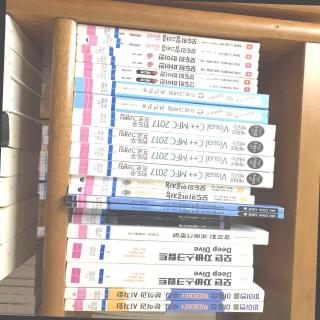book-spine: (73, 75, 269, 111), (71, 108, 275, 141), (69, 157, 273, 189), (72, 92, 268, 125), (69, 142, 274, 172), (70, 126, 274, 156), (65, 262, 253, 293), (76, 23, 259, 53), (75, 34, 258, 63), (66, 239, 252, 267), (75, 44, 258, 71), (75, 52, 258, 79), (74, 69, 257, 95), (74, 62, 257, 87), (67, 224, 268, 245), (66, 195, 283, 214), (67, 184, 254, 205), (65, 202, 283, 219), (69, 175, 250, 195), (64, 288, 264, 303), (68, 214, 230, 231), (64, 300, 262, 312), (68, 208, 230, 221)
